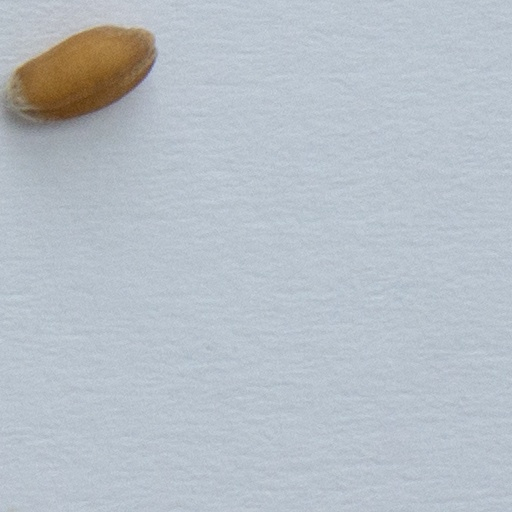Wheat-grain-poly: (9, 26, 158, 121)
